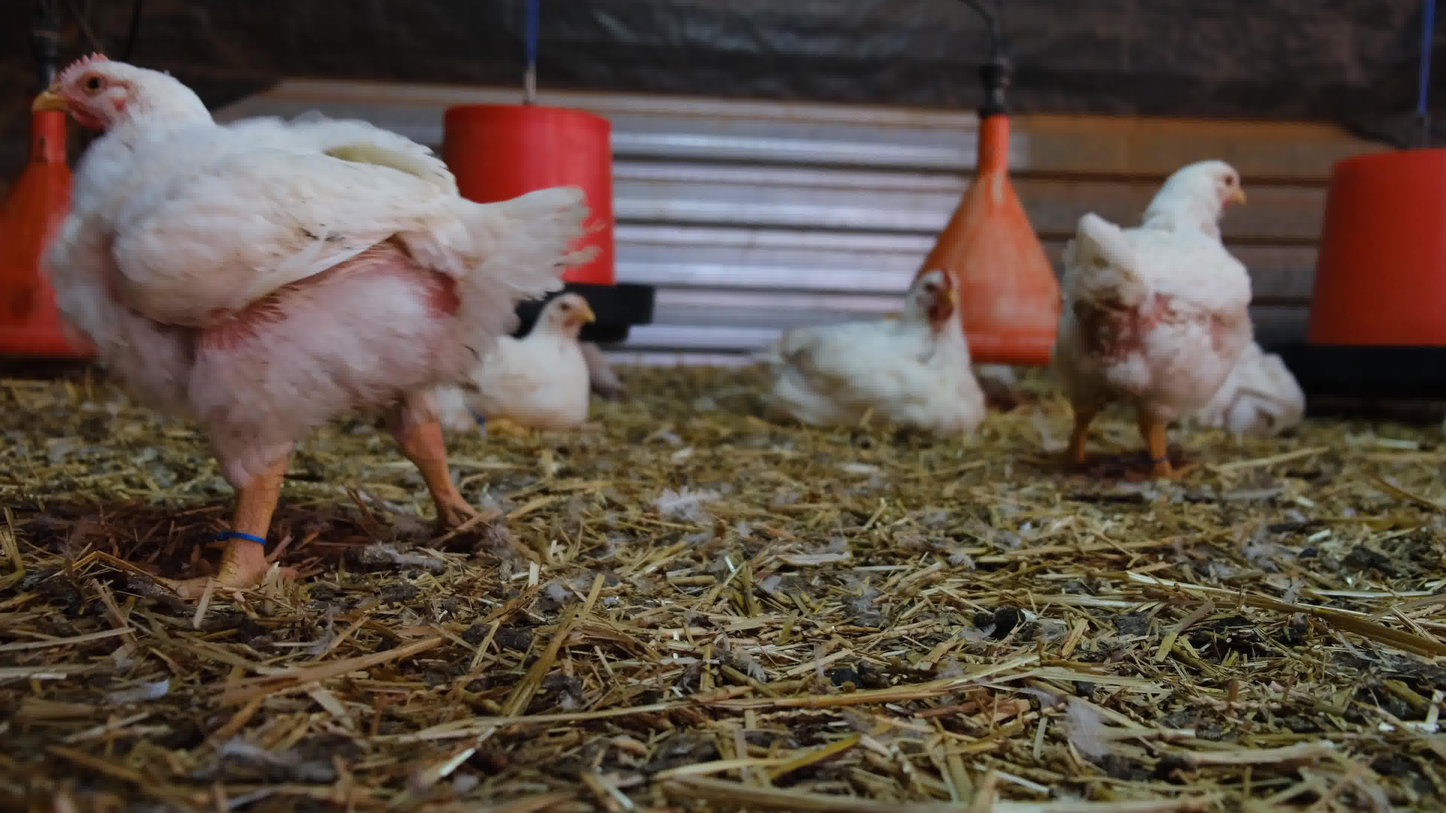AbNormal: (751, 262, 989, 431), (421, 285, 592, 431), (1183, 342, 1307, 437)
Normal: (29, 46, 600, 601), (1055, 160, 1252, 483)
